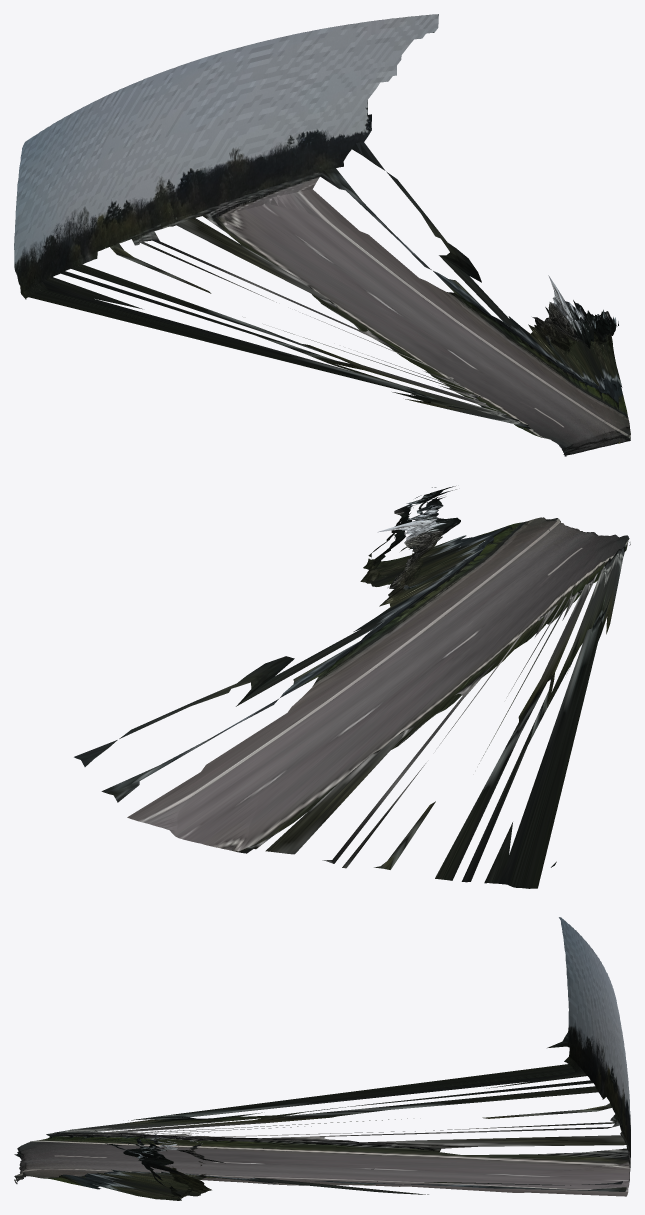
3 renders of one model, top to bottom at view 1: azimuth 30°, elevation 25°; view 2: azimuth 150°, elevation 25°; view 3: azimuth 270°, elevation 25°, orthographic. The views are drawn at different scales.
Visible parts, largest first — view 1: defaultobject; view 2: defaultobject; view 3: defaultobject.
Boxes of the visible parts, <box> form: defaultobject: <box>14,14,630,456</box>; defaultobject: <box>74,486,630,888</box>; defaultobject: <box>14,917,630,1200</box>.
Bounding box in the file's own units: 32.95 × 12.42 × 44.46.
1 material, 1 textured.
